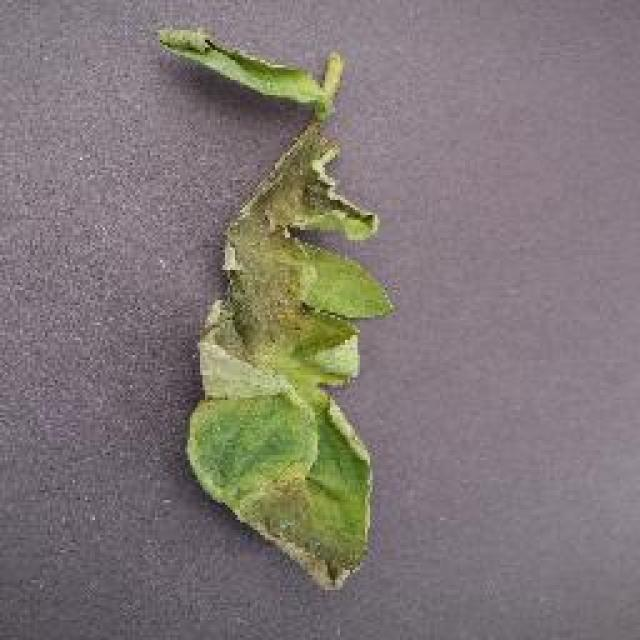Tomato Late Blight: (238, 68, 428, 445)
